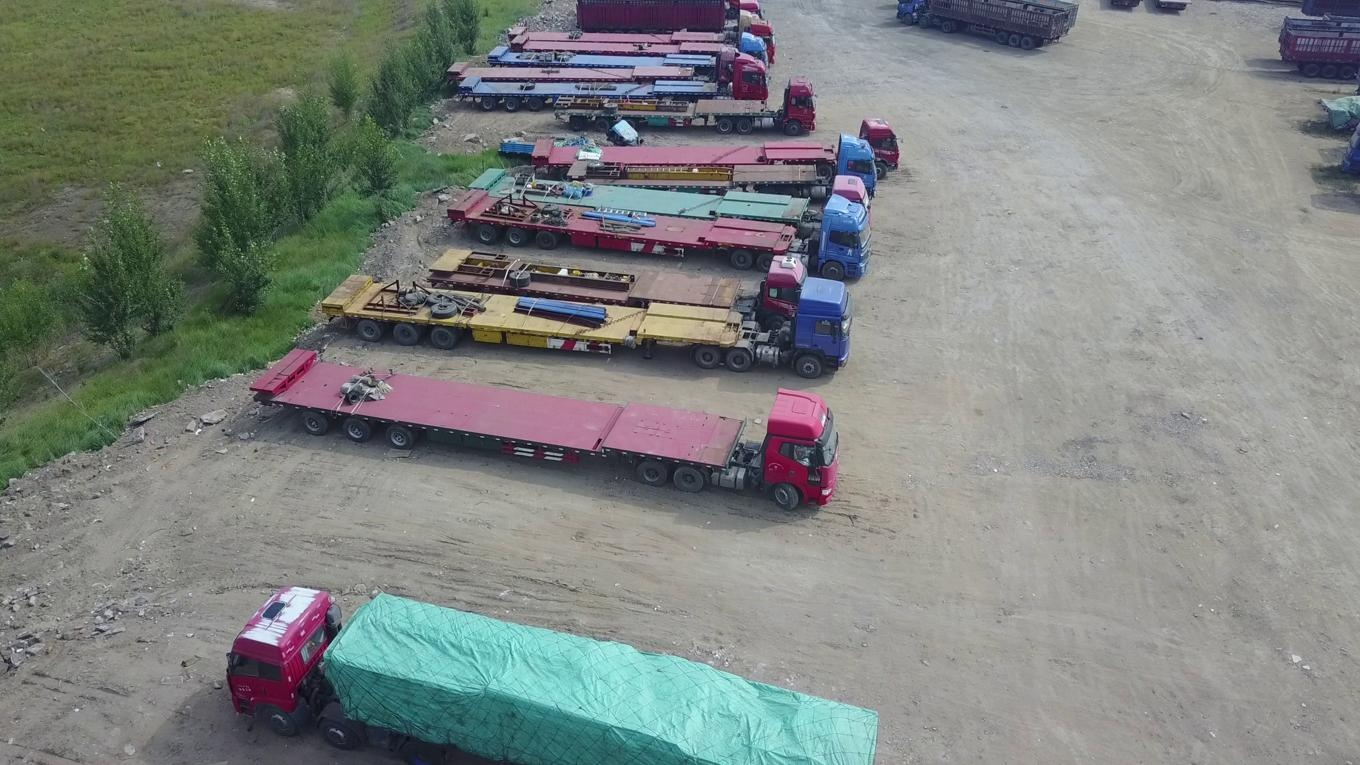truck: (211, 585, 889, 765), (243, 338, 842, 508), (318, 270, 855, 380), (438, 188, 872, 286), (418, 250, 808, 327), (462, 172, 875, 240), (527, 117, 901, 180), (560, 136, 878, 204), (462, 53, 779, 112), (442, 28, 772, 79), (551, 77, 826, 137), (440, 0, 768, 39), (444, 19, 771, 58), (891, 0, 1086, 53)
